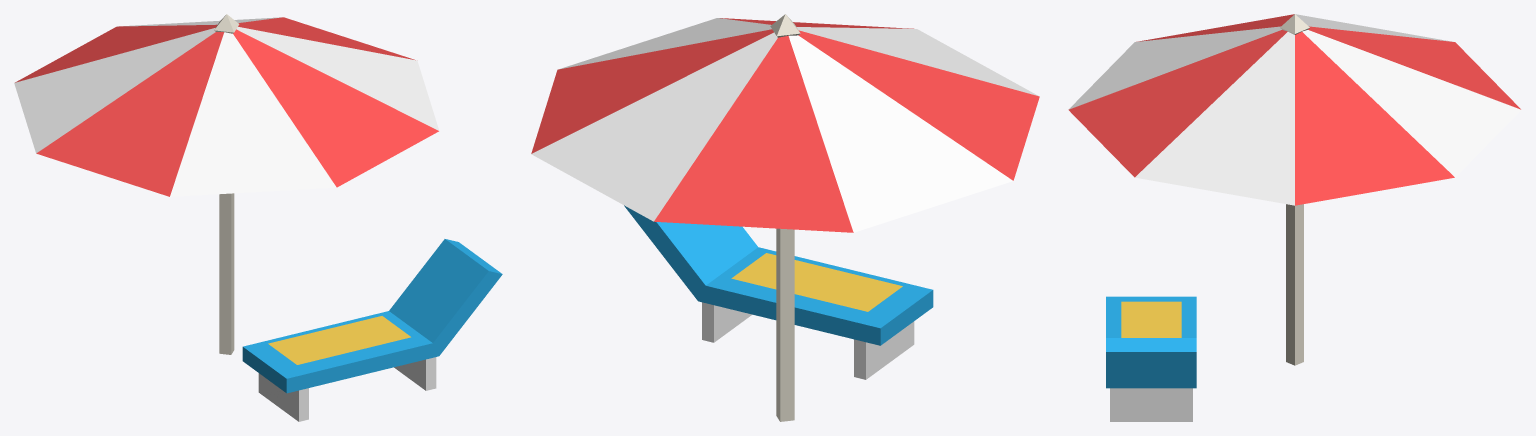
File: umbrella.glb
The picture shows the model from 3 angles, left to right: view 1: azimuth 30°, elevation 25°; view 2: azimuth 150°, elevation 25°; view 3: azimuth 270°, elevation 25°; orthographic projection. The views are drawn at different scales.
Visible parts, largest first — view 1: umbrella; view 2: umbrella; view 3: umbrella.
Part boxes in pixels (<box>): umbrella: <box>14,14,502,421</box>; umbrella: <box>531,14,1039,421</box>; umbrella: <box>1068,14,1521,421</box>.
Bounding box in the file's own units: 0.3 × 0.254 × 0.3.
